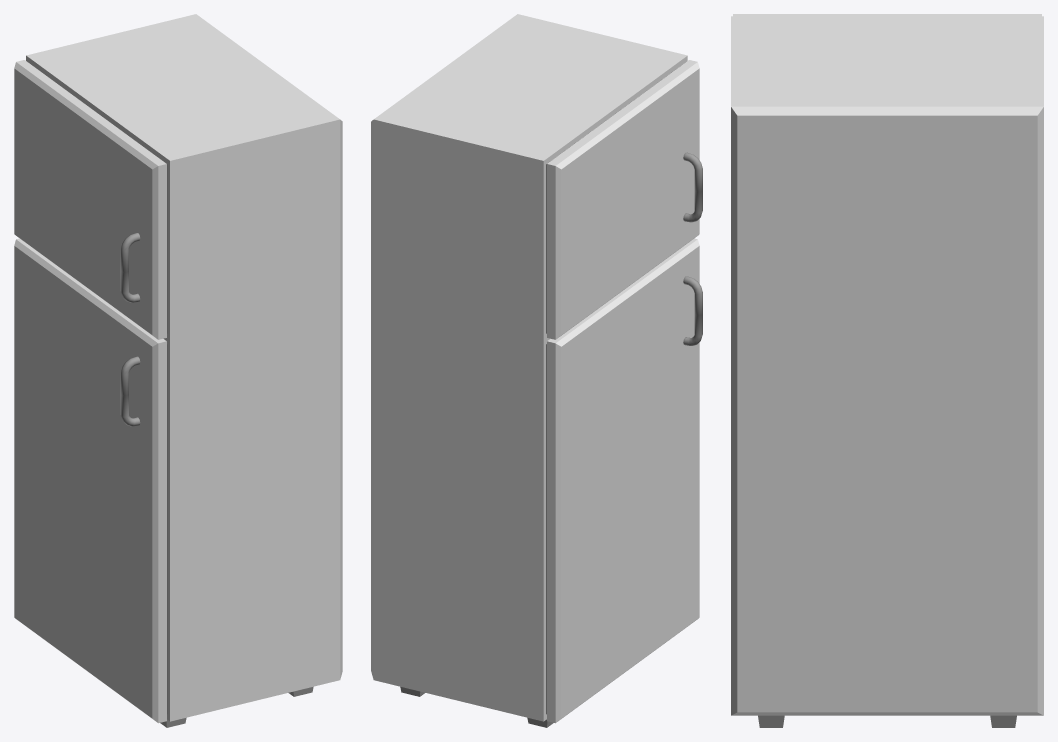
Rendered from Buzdolabi.fbx.
The picture shows the model from 3 angles, left to right: view 1: azimuth 30°, elevation 25°; view 2: azimuth 150°, elevation 25°; view 3: azimuth 270°, elevation 25°; orthographic projection. The views are drawn at different scales.
Parts seen in each view (by area): view 1: Cube; view 2: Cube; view 3: Cube.
Boxes of the visible parts, bbox=[...] form: Cube: bbox=[14, 14, 342, 727]; Cube: bbox=[371, 14, 702, 727]; Cube: bbox=[731, 14, 1043, 727].
Bounding box in the file's own units: 110 × 295 × 133.
